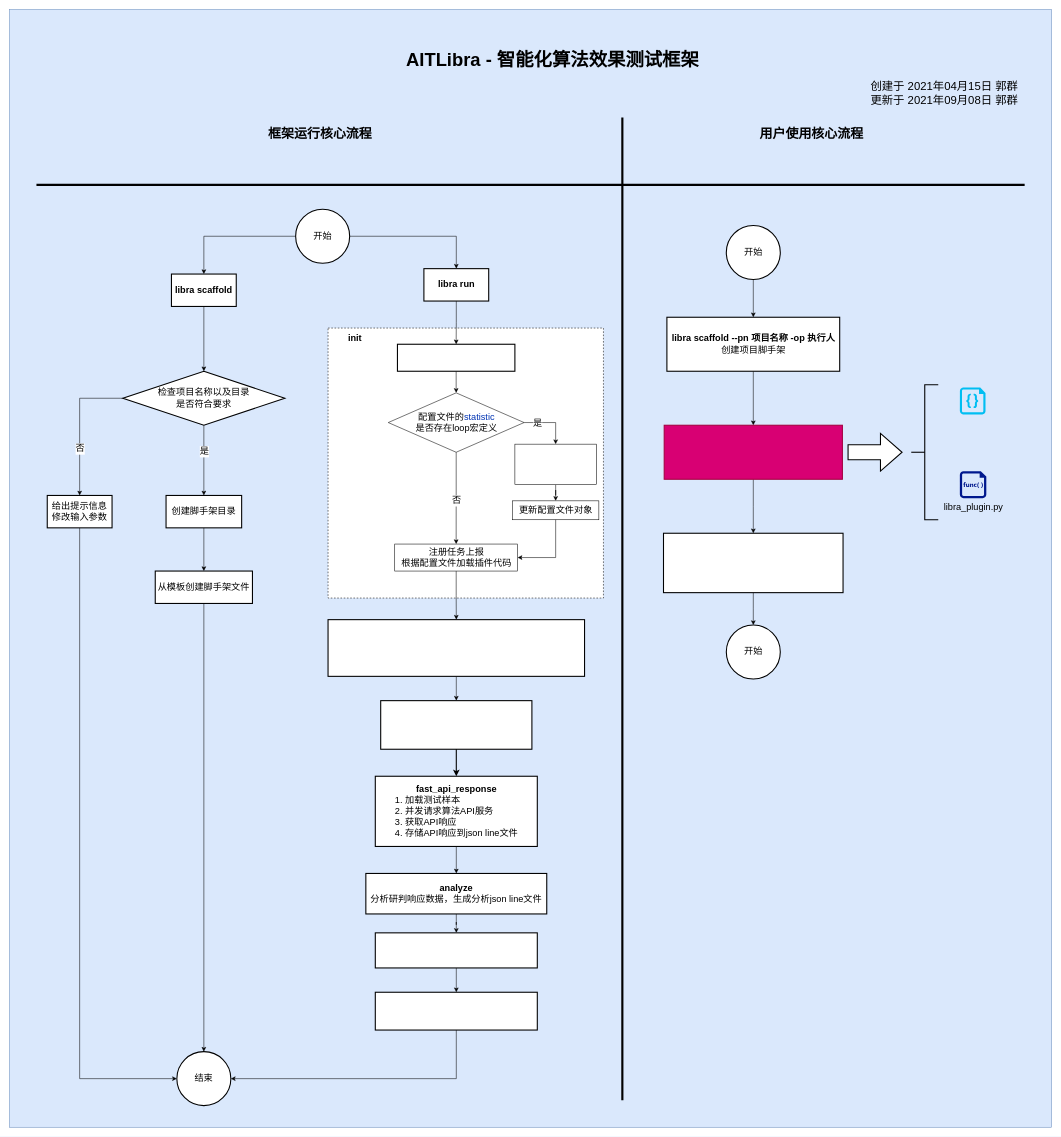
Some shapes in this 1061 by 1137 pixel diagram are drawn without their labels. The centre of each missing label's shape, as x and y in pixels:
backup 1. 支持备份文件夹或备份文件 2. 支持通配符匹配 3. 将需要备份的文件夹和文件移入当前时间命名的备份文件夹: (456,648)
build_sample 1. 加载原始测试数据 2. 对测试数据进行定制化处理 3. 生成json line文件格式测试数据集: (456,725)
libra run 依次执行pipeline里定义的所有流程: (753,562)
libra.yaml: (972,400)
report 生成报告: (456,1010)
statists 1. 根据分析json line文件统计指标: (456,950)
加载libra.yaml配置文件 并进行校验: (456,357)
根据项目测试内容编写配置和插件代码: (753,452)
渲染输出 （覆盖写入）runtime_libra.yaml: (555,464)
